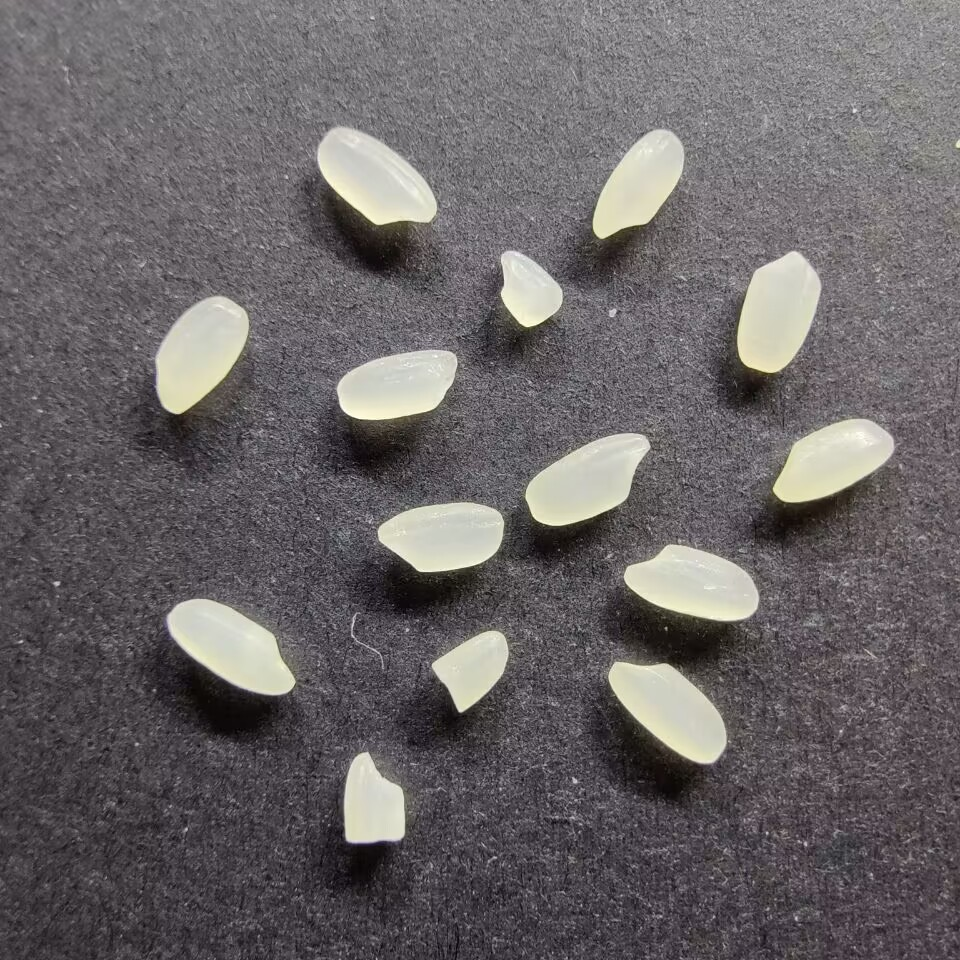broken: (341, 748, 408, 847), (431, 630, 508, 714), (496, 247, 566, 330)
rice: (606, 657, 727, 765), (315, 124, 438, 228), (523, 431, 652, 529), (166, 598, 296, 695), (153, 296, 250, 416), (620, 542, 760, 623), (769, 416, 897, 503), (591, 128, 686, 239), (736, 248, 821, 372), (377, 501, 503, 574), (336, 348, 459, 422)
